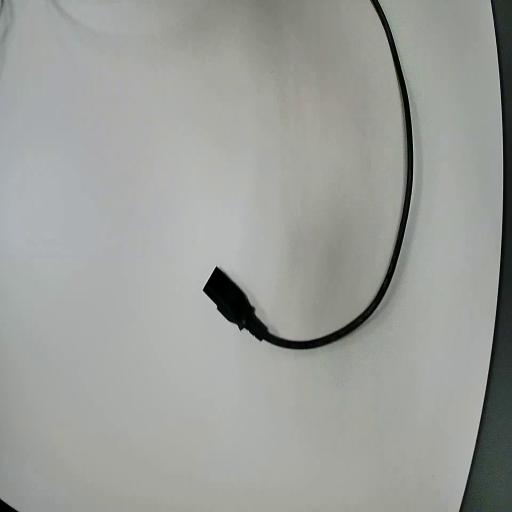wire: (204, 0, 411, 348)
